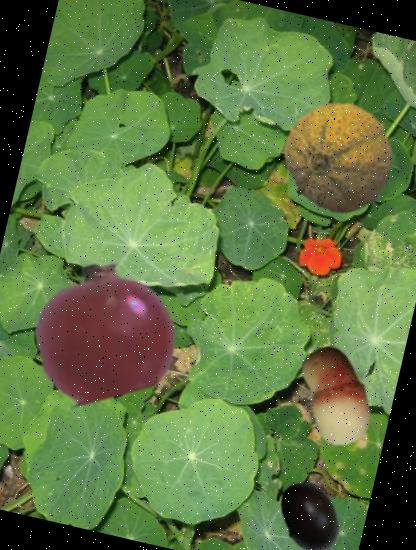Cantaloupe: (273, 90, 407, 224)
Eggplant: (263, 471, 357, 550)
Peach: (273, 336, 395, 458)
Redcurrant: (19, 246, 188, 416)
